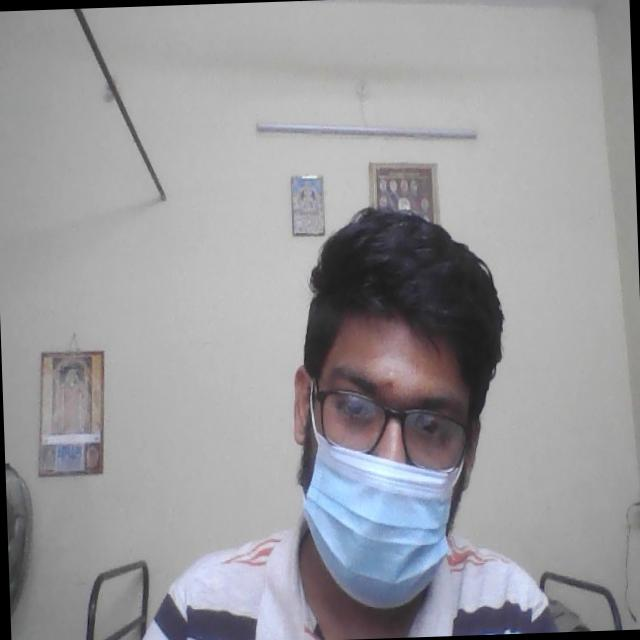Focused: (290, 318, 474, 594)
